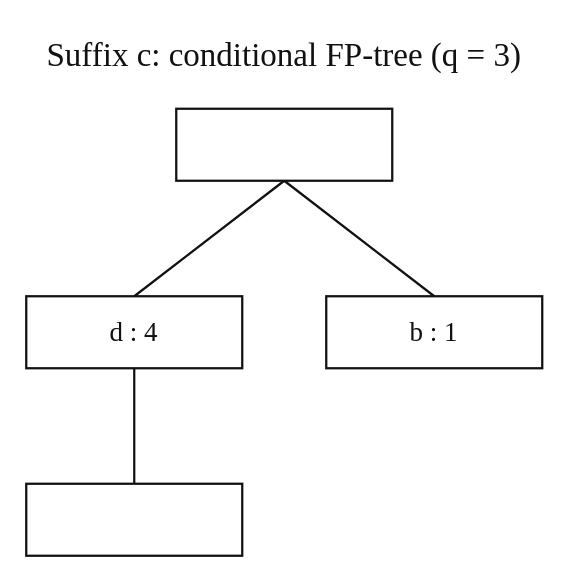
This 570x582 diagram has some shape labels left out. The box of each missing label's shape, as (x1, y1, x2, y2) in pixels:
b : 3: (24, 482, 243, 556)
root: (174, 107, 393, 181)
